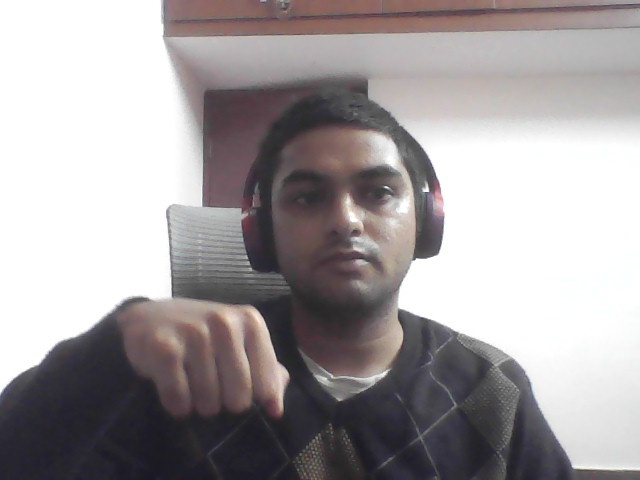Yes: (85, 276, 314, 453)
